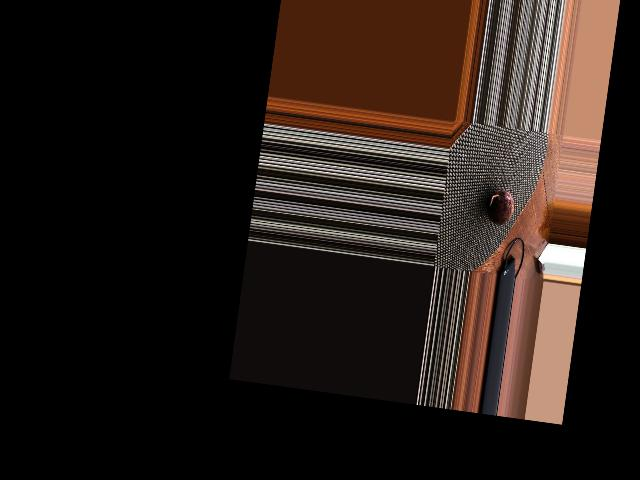beet: (485, 189, 515, 226)
